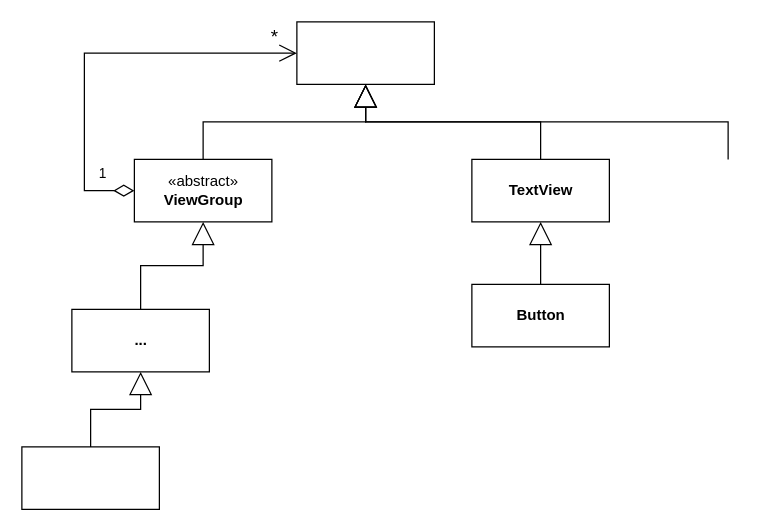
Some shapes in this 773 by 531 pixel diagram are drawn without their labels. The shapes that lost their labels are listed below. From the top down, each one's centre as x and y in pixels, then its label:
the point at 365,52: «abstract» View
the point at 90,477: Constraint Layout
